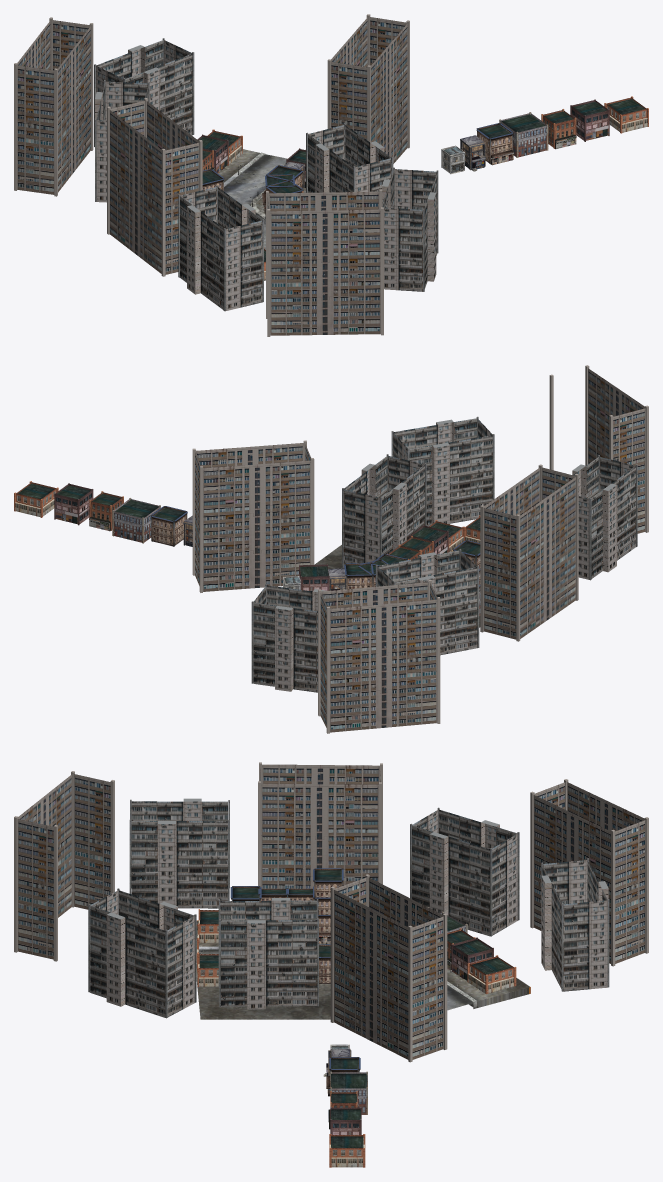
The model's file is city_map.fbx.
3 renders of one model, top to bottom at view 1: azimuth 30°, elevation 25°; view 2: azimuth 150°, elevation 25°; view 3: azimuth 270°, elevation 25°, orthographic. The views are drawn at different scales.
Parts seen in each view (by area): view 1: Plane.030, Plane.027, Plane.029, Plane.028, Cube.016, Cube.019, Cube.013, Cube.014, Cube.012, Plane, Cube.002, Cube.001 (+9 smaller); view 2: Plane.029, Plane.028, Plane.027, Cube.019, Cube.014, Cube.013, Cube.016, Plane.030, Cube.012, Cube.002, Cube.001, Plane.001 (+5 smaller); view 3: Plane.028, Plane.027, Plane.030, Plane.029, Cube.019, Cube.012, Cube.014, Cube.016, Cube.013, Plane.007, Cube.006, Plane.006 (+8 smaller).
Boxes of the visible parts, x1,y1,x2,y2 form: Plane.030: [266, 189, 383, 336]; Plane.027: [107, 98, 202, 276]; Plane.029: [14, 17, 93, 196]; Plane.028: [327, 14, 409, 163]; Cube.016: [178, 185, 263, 311]; Cube.019: [382, 167, 438, 291]; Cube.013: [94, 38, 194, 146]; Cube.014: [306, 123, 393, 192]; Cube.012: [95, 80, 149, 202]; Plane: [224, 154, 287, 249]; Cube.002: [499, 112, 548, 157]; Cube.001: [570, 99, 609, 141]; Plane.029: [318, 579, 440, 733]; Plane.028: [192, 440, 314, 592]; Plane.027: [480, 464, 578, 641]; Cube.019: [391, 416, 494, 526]; Cube.014: [342, 454, 426, 568]; Cube.013: [251, 584, 327, 692]; Cube.016: [572, 455, 637, 580]; Plane.030: [549, 365, 648, 533]; Cube.012: [375, 549, 479, 655]; Cube.002: [112, 498, 160, 543]; Cube.001: [54, 483, 93, 525]; Plane.001: [151, 506, 187, 546]; Plane.028: [330, 874, 447, 1062]; Plane.027: [258, 762, 382, 888]; Plane.030: [14, 771, 114, 961]; Plane.029: [530, 779, 648, 966]; Cube.019: [88, 888, 196, 1018]; Cube.012: [410, 807, 519, 936]; Cube.014: [218, 898, 318, 1009]; Cube.016: [129, 798, 229, 908]; Cube.013: [541, 858, 609, 991]; Plane.007: [196, 972, 330, 1019]; Cube.006: [467, 955, 516, 994]; Plane.006: [196, 920, 530, 1008].
Size of the model in its own units: 5372 by 1418 by 5290.
12 materials, 11 textured.
